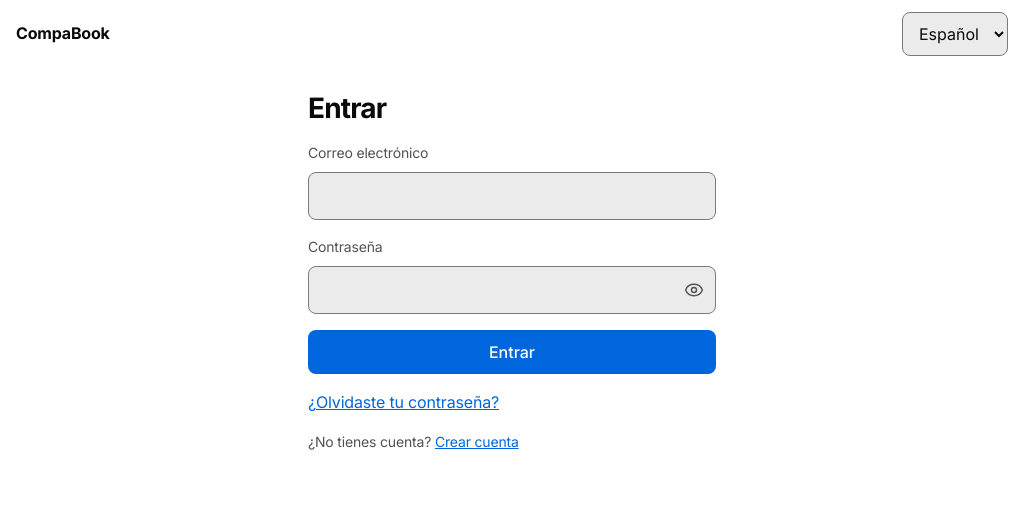
Test: login › sin conexión
In the field labelled "Correo electrónico": (512, 196) [308, 172, 716, 220], type "ana@example.com"
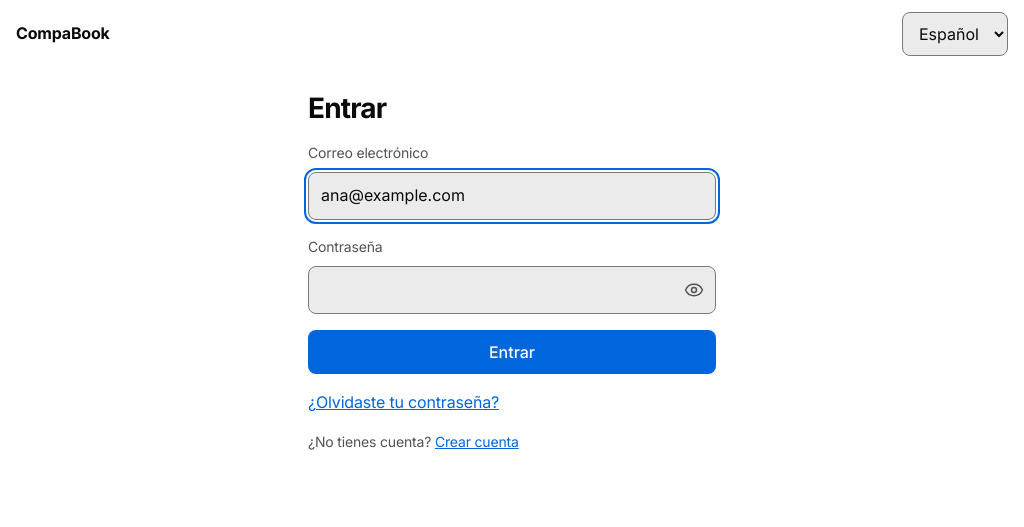
In the password field labelled "Contraseña": (512, 290) [308, 266, 716, 314], type "caballo-grapa-azul"
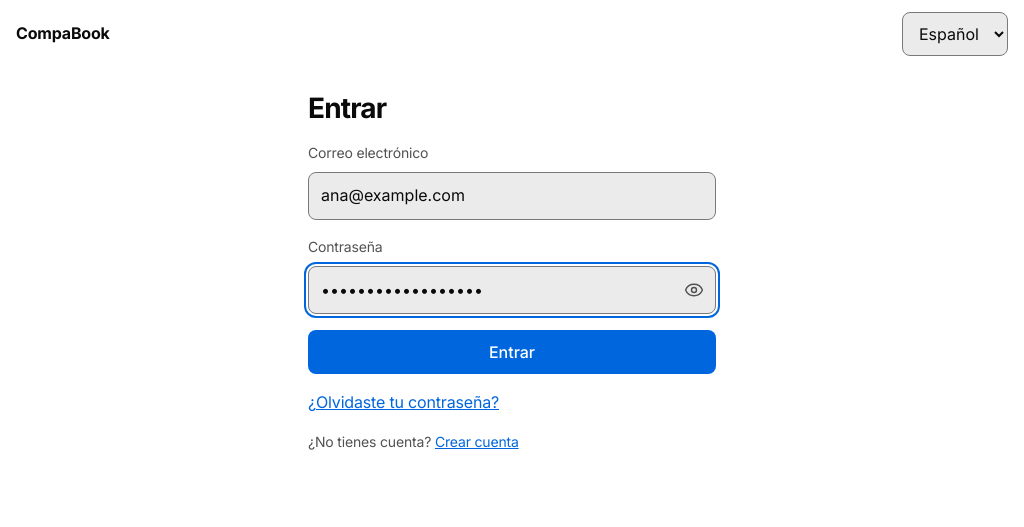
Click the button "Entrar": (512, 352) [308, 330, 716, 374]
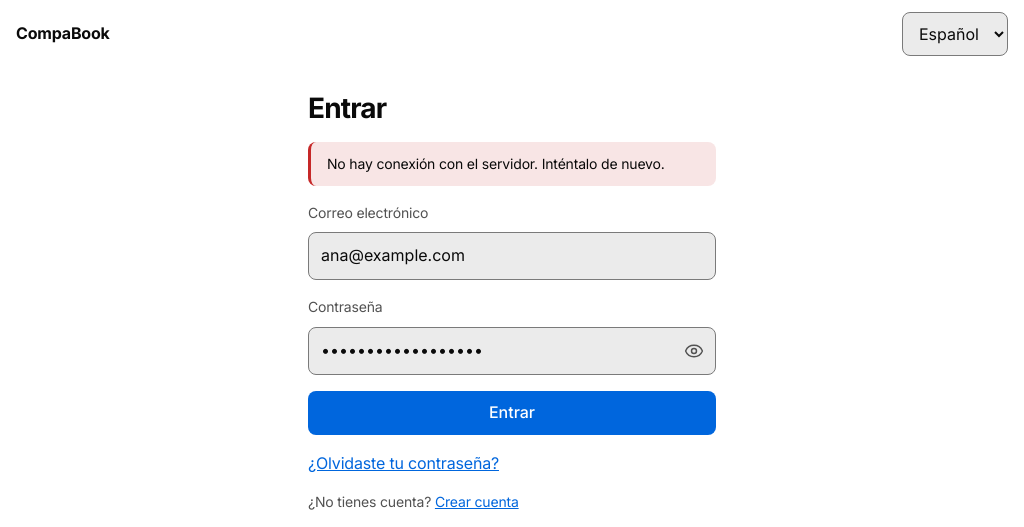
Expected: the message shows "No hay conexión", [327, 155, 665, 172]
